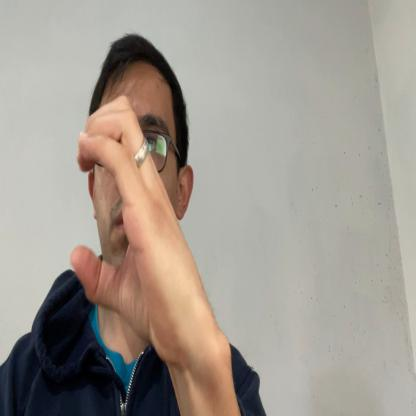C: (69, 93, 188, 354)
